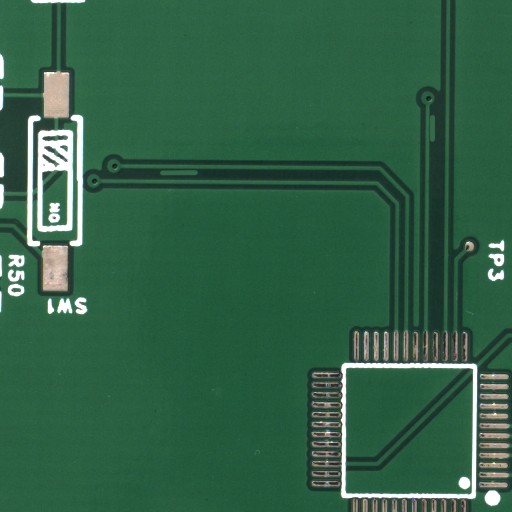Spurious_copper: (179, 171, 218, 180), (433, 127, 440, 157)
